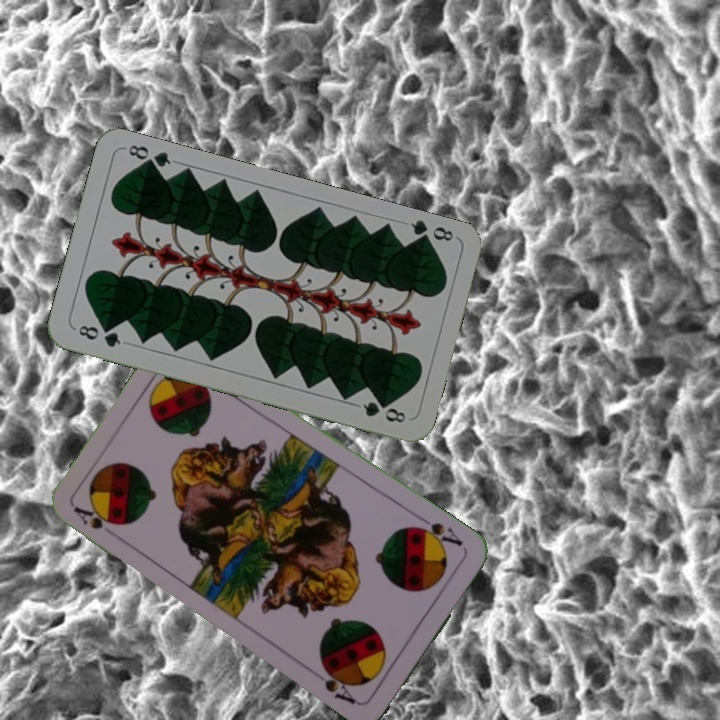G8: (406, 216, 456, 249), (74, 321, 124, 350)
SA: (409, 512, 466, 552), (69, 502, 120, 532)
